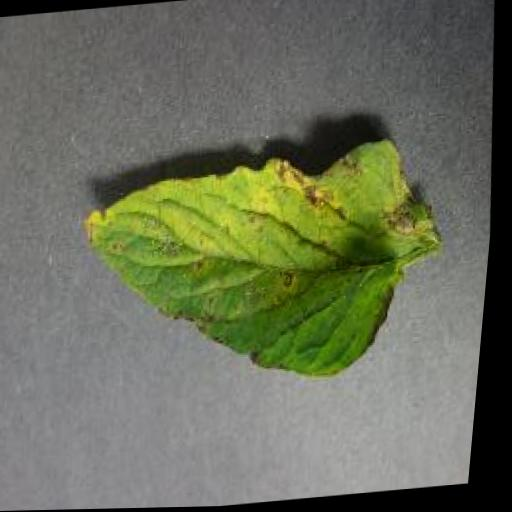Bacterial Spot: (61, 132, 462, 402)
